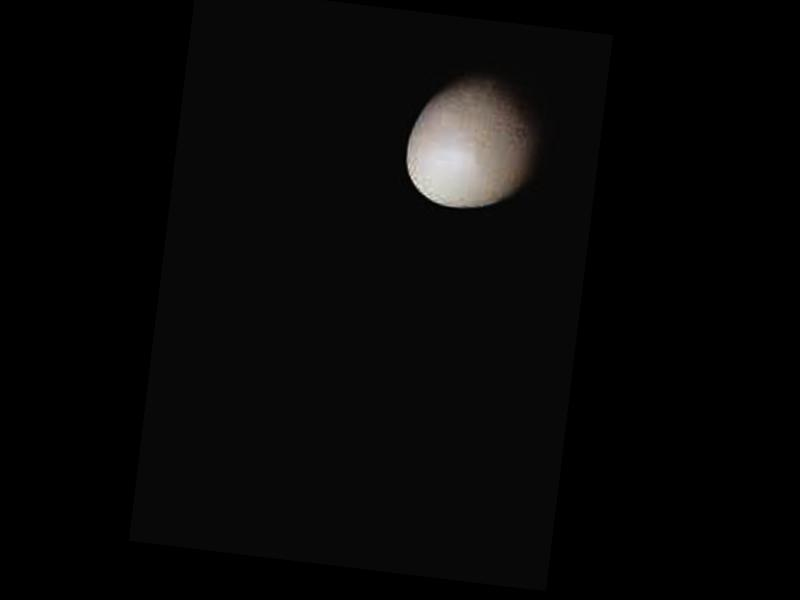Eggs: (399, 59, 554, 217)
